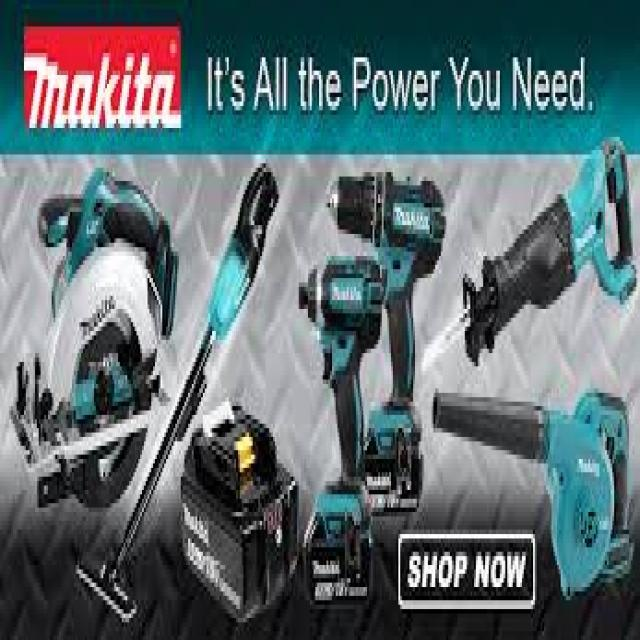drill: (324, 160, 446, 523), (293, 245, 388, 617)
